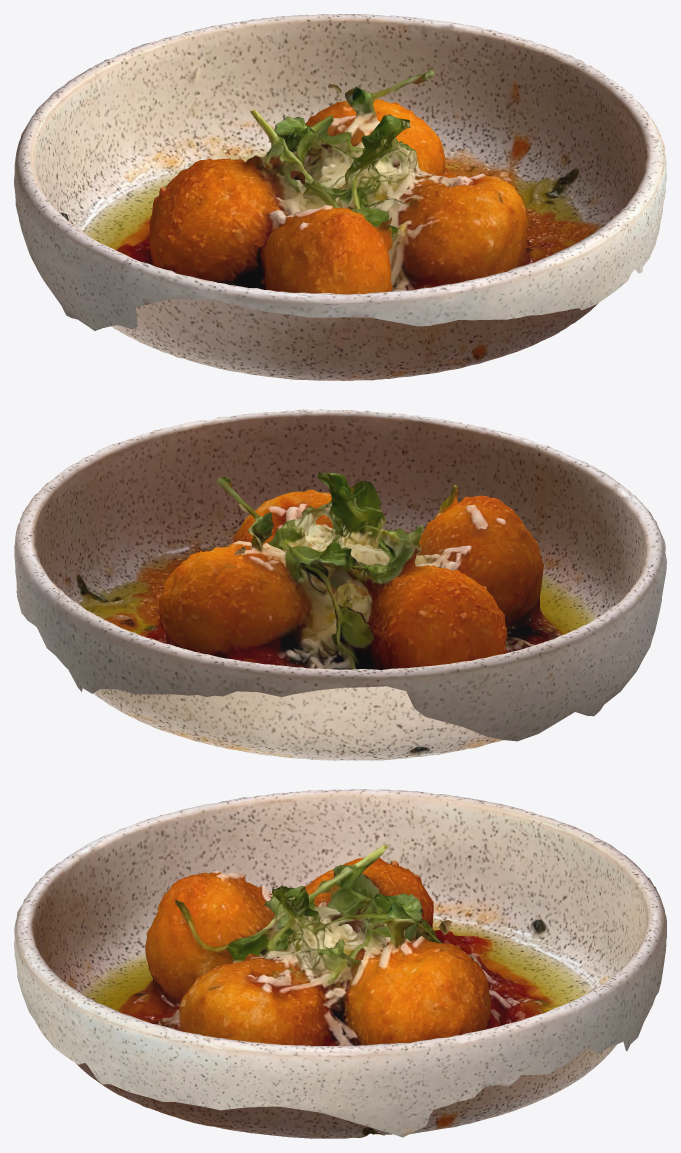
Rendered from arancini.glb.
3 renders of one model, top to bottom at view 1: azimuth 30°, elevation 25°; view 2: azimuth 150°, elevation 25°; view 3: azimuth 270°, elevation 25°, orthographic.
Parts seen in each view (by area): view 1: Object_2; view 2: Object_2; view 3: Object_2.
Part boxes in pixels (bbox=[...]): Object_2: bbox=[14, 14, 666, 380]; Object_2: bbox=[14, 409, 666, 760]; Object_2: bbox=[14, 789, 666, 1138].
Bounding box in the file's own units: 147 × 41.24 × 146.
1 material, 1 textured.
